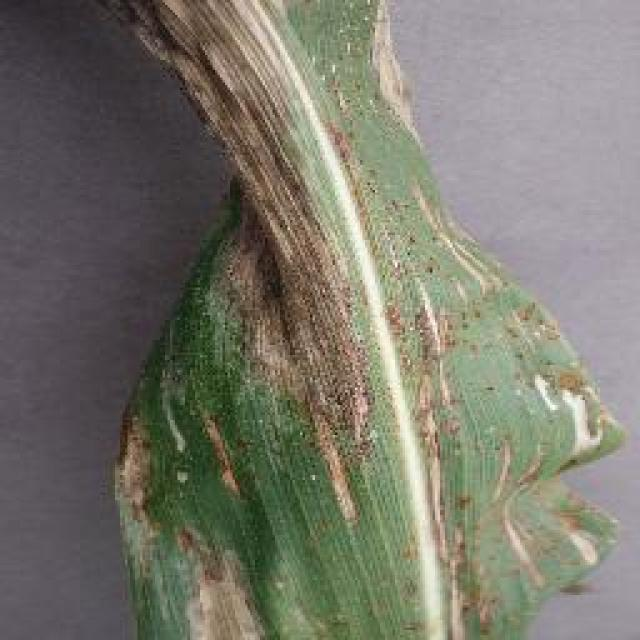Corn___Northern_Leaf_Blight: (75, 2, 633, 640)
